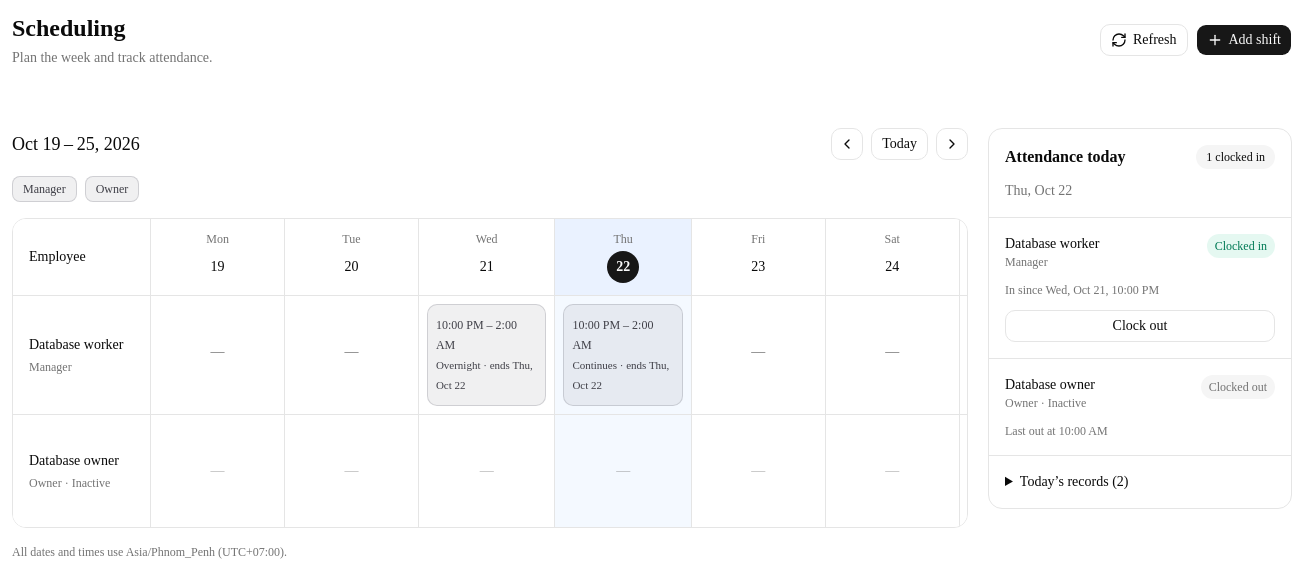
preserves attendance on a rejected save and recovers after a refresh
Click the button with aria-label "Clock out Database worker": (1140, 326) [1005,310,1275,342]
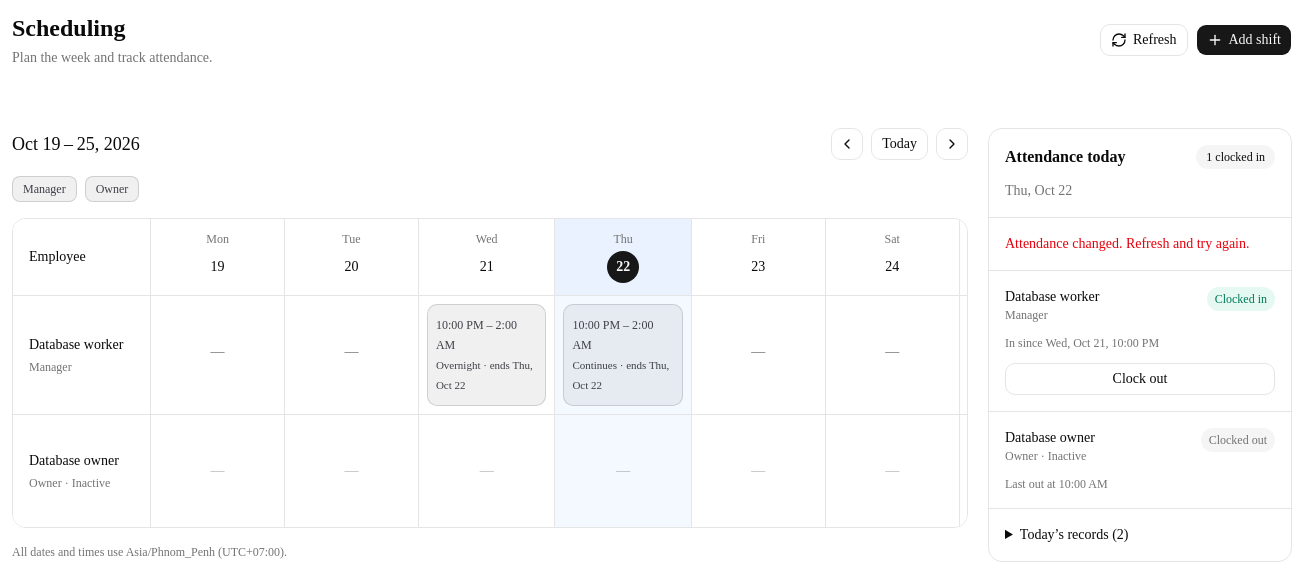
Expected: the text "1 clocked in" is shown, [1196,145,1275,169]
Expected: the message "Attendance changed. Refresh and try again." is shown, [989,218,1291,271]
Click the button with aria-label "Refresh schedule": (1144, 40) [1100,24,1188,56]
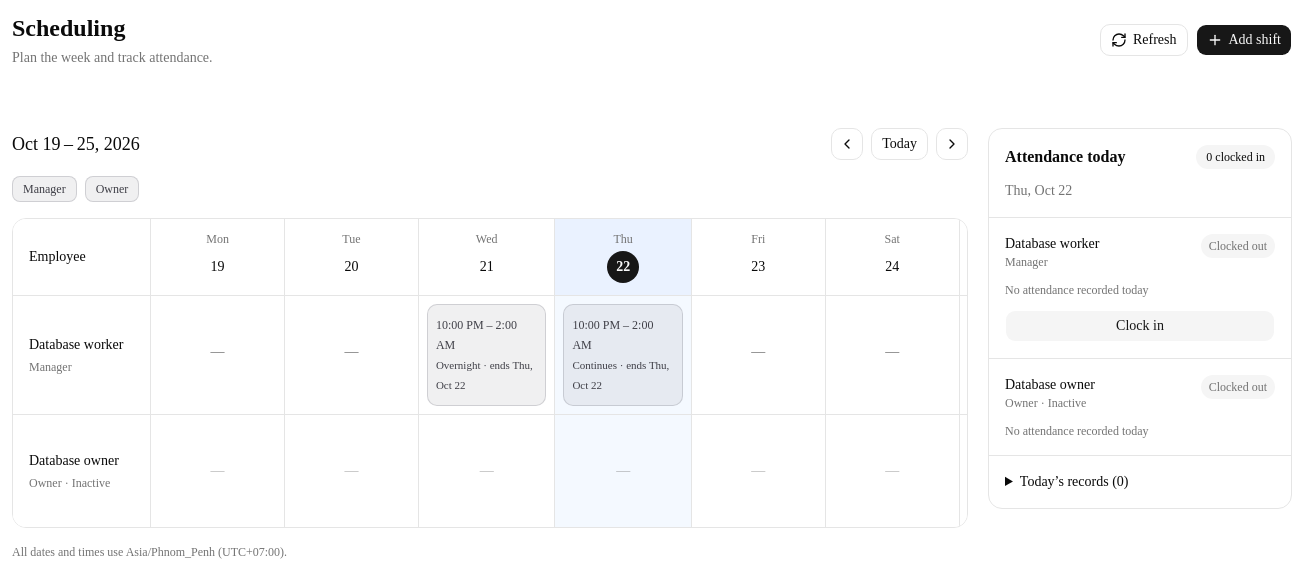
Expected: the button with aria-label "Clock in Database worker" is shown, [1005,310,1275,342]
Expected: the message "1 clocked in" is gone
